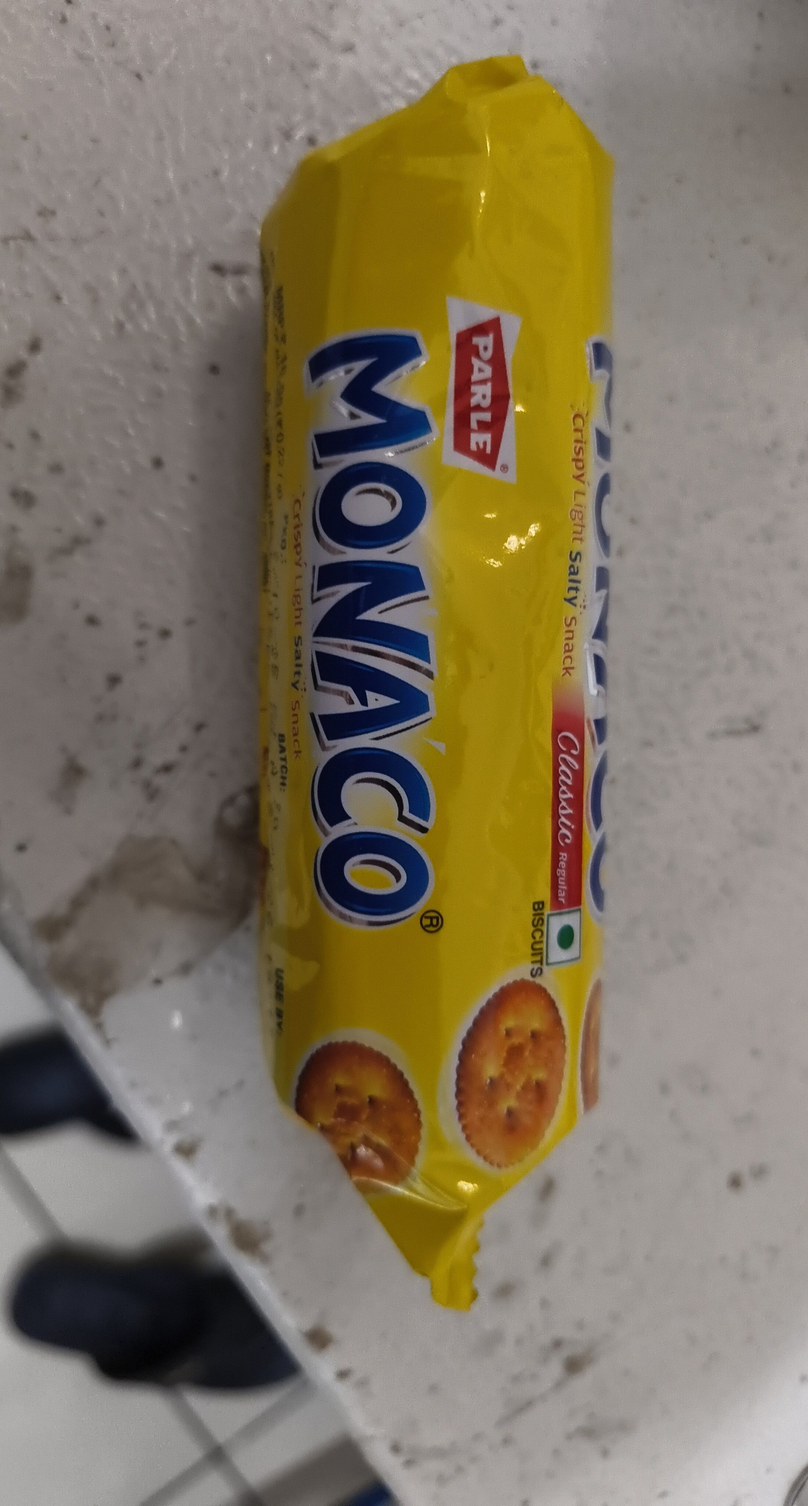MONACO: (73, 136, 735, 1370)
